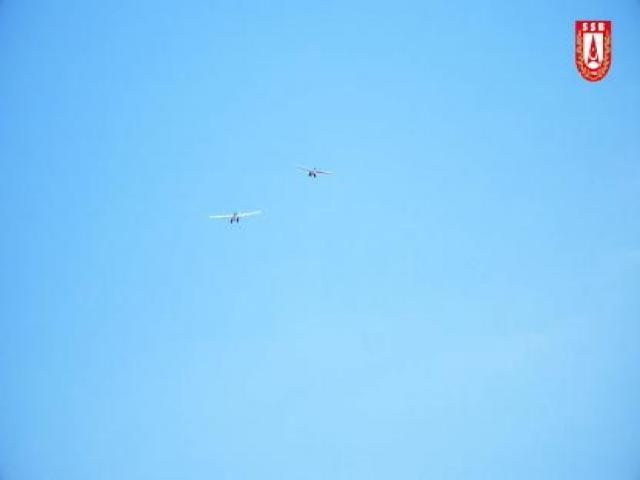uav: (208, 205, 260, 224), (289, 162, 340, 178)
